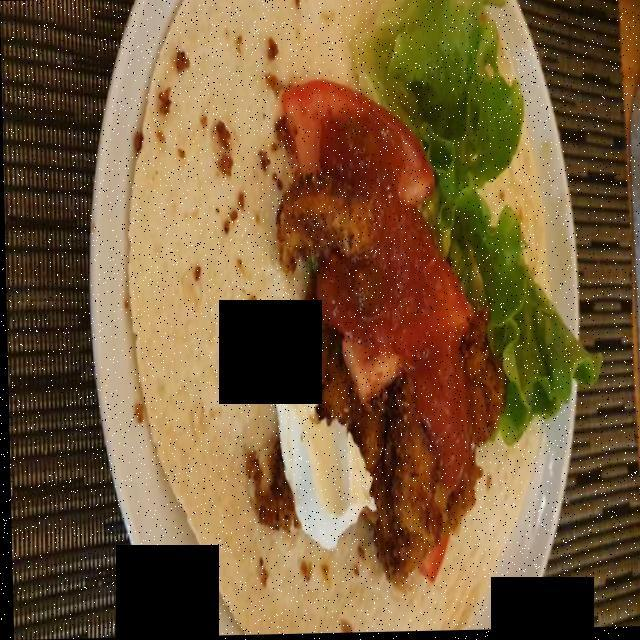avocado: (261, 0, 597, 582)
bread: (120, 0, 584, 636)
cheese: (278, 365, 372, 554)
chicken: (257, 7, 580, 588)
salad: (264, 1, 591, 562)
tomato: (262, 7, 573, 586)
